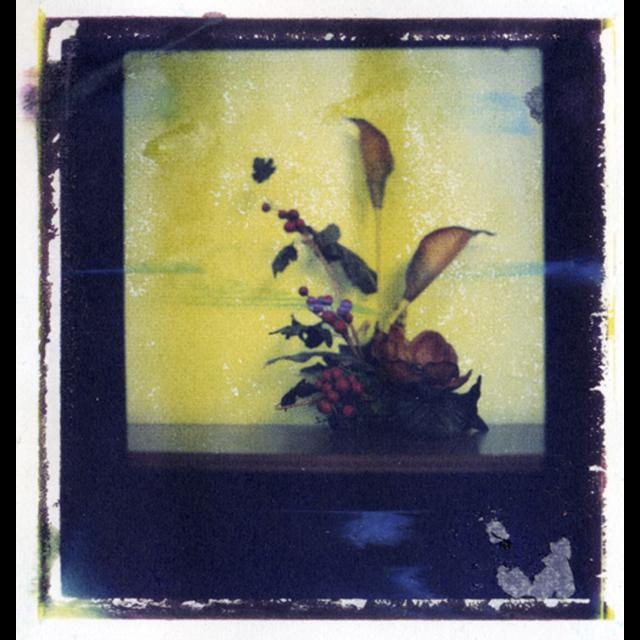Flower: (350, 324, 474, 396), (322, 388, 340, 402)
